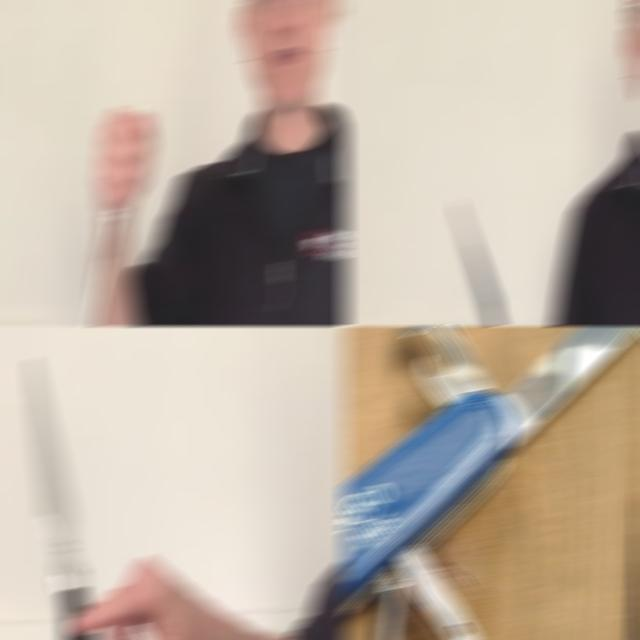Knife_Handle: (26, 356, 214, 640), (70, 103, 158, 326), (452, 198, 540, 326)
